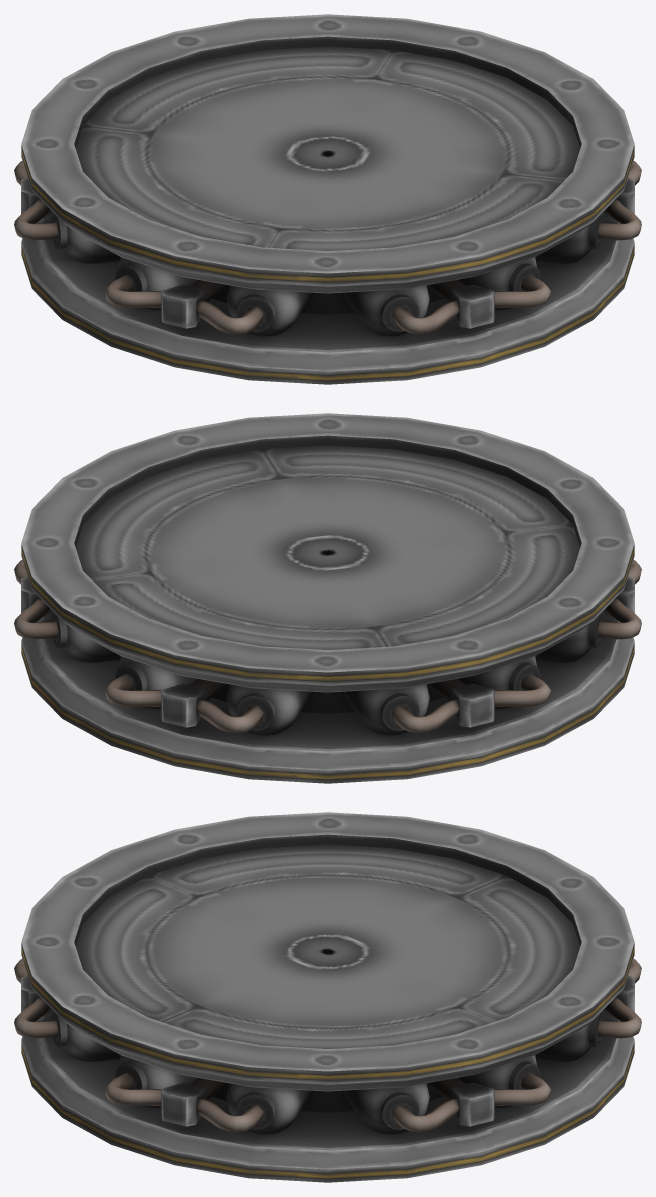
The model's file is bluedog_Xenon_SmallStack.fbx.
3 renders of one model, top to bottom at view 1: azimuth 30°, elevation 25°; view 2: azimuth 150°, elevation 25°; view 3: azimuth 270°, elevation 25°, orthographic.
Visible parts, largest first — view 1: Xenon_StackSmall_Merged_Xenon_StackMedium1; view 2: Xenon_StackSmall_Merged_Xenon_StackMedium1; view 3: Xenon_StackSmall_Merged_Xenon_StackMedium1.
Boxes of the visible parts, x1,y1,x2,y2 form: Xenon_StackSmall_Merged_Xenon_StackMedium1: [14, 14, 641, 384]; Xenon_StackSmall_Merged_Xenon_StackMedium1: [14, 413, 641, 783]; Xenon_StackSmall_Merged_Xenon_StackMedium1: [14, 812, 641, 1182].
Bounding box in the file's own units: 0.6251 × 0.125 × 0.6399.
1 material, 1 textured.
